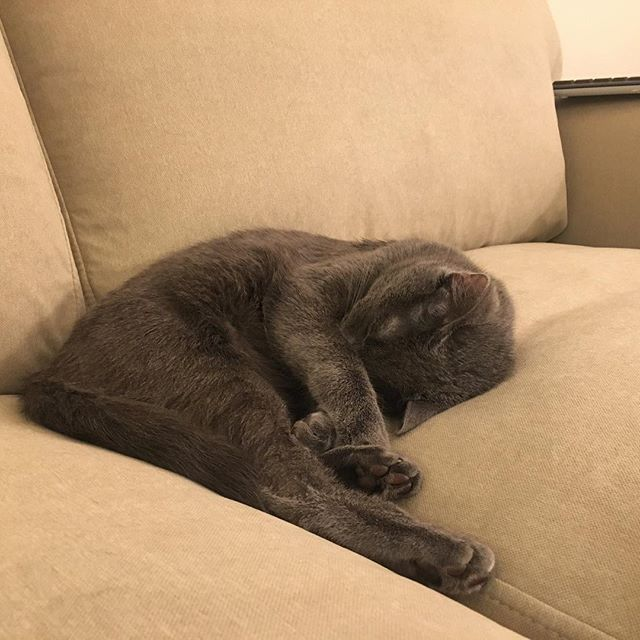cat: (333, 241, 526, 434)
